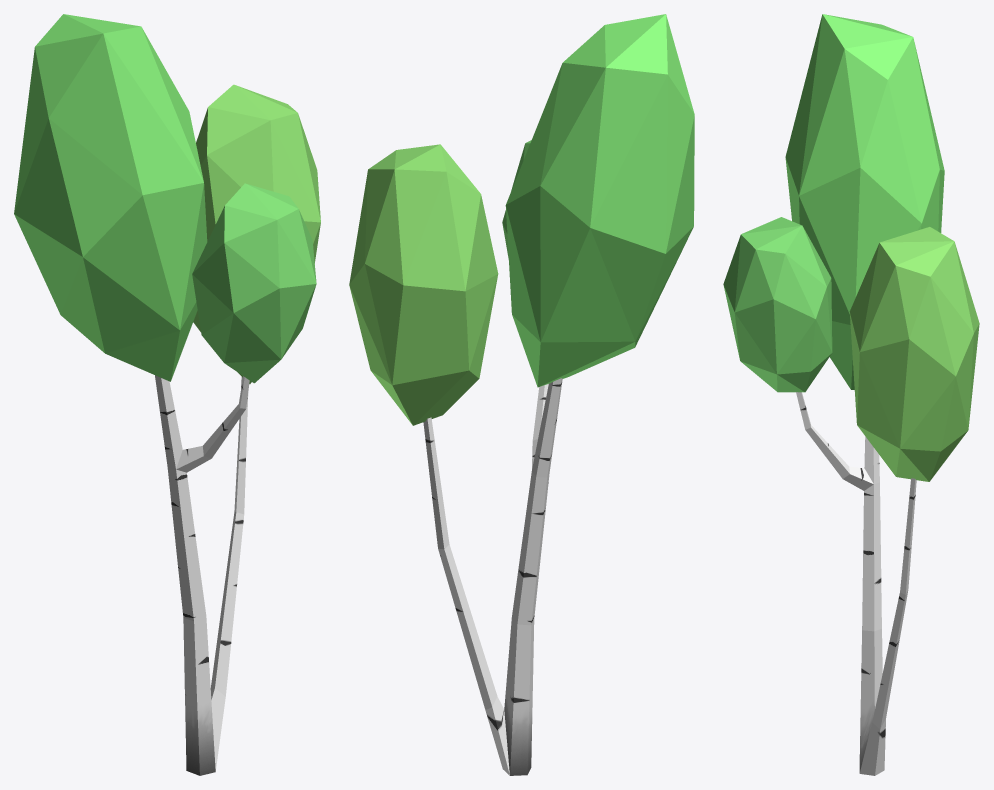
File: Birch_Tree_m_06_LOD.fbx
The picture shows the model from 3 angles, left to right: view 1: azimuth 30°, elevation 25°; view 2: azimuth 150°, elevation 25°; view 3: azimuth 270°, elevation 25°; orthographic projection. The views are drawn at different scales.
Parts seen in each view (by area): view 1: Birch_Tree_m_06_LOD0; view 2: Birch_Tree_m_06_LOD0; view 3: Birch_Tree_m_06_LOD0.
Boxes of the visible parts, bbox=[...] form: Birch_Tree_m_06_LOD0: bbox=[14, 14, 320, 775]; Birch_Tree_m_06_LOD0: bbox=[349, 14, 694, 775]; Birch_Tree_m_06_LOD0: bbox=[723, 14, 979, 775].
Size of what is drawn, in the model's own units: 291 by 712 by 236.
